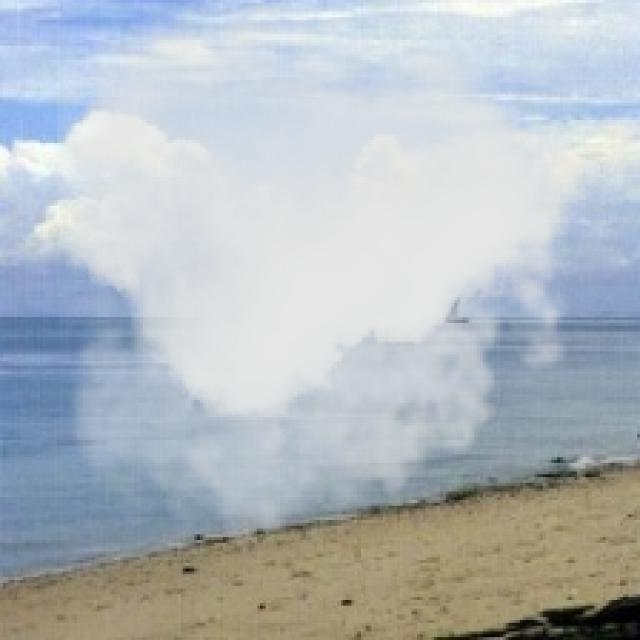Smoke: (57, 3, 603, 563)
